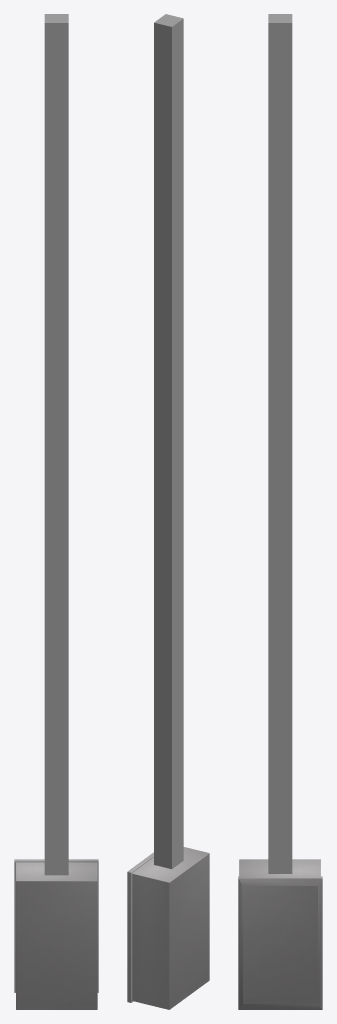
File: Wall_Outlet_Top.fbx
The picture shows the model from 3 angles, left to right: view 1: azimuth 90°, elevation 25°; view 2: azimuth 150°, elevation 25°; view 3: azimuth 270°, elevation 25°; orthographic projection.
Parts seen in each view (by area): view 1: pCube7; view 2: pCube7; view 3: pCube7.
Boxes of the visible parts, <box> form: pCube7: <box>14,14,98,1009</box>; pCube7: <box>127,14,209,1009</box>; pCube7: <box>238,14,322,1009</box>.
Bounding box in the file's own units: 0.3541 × 7.61 × 0.5937.
